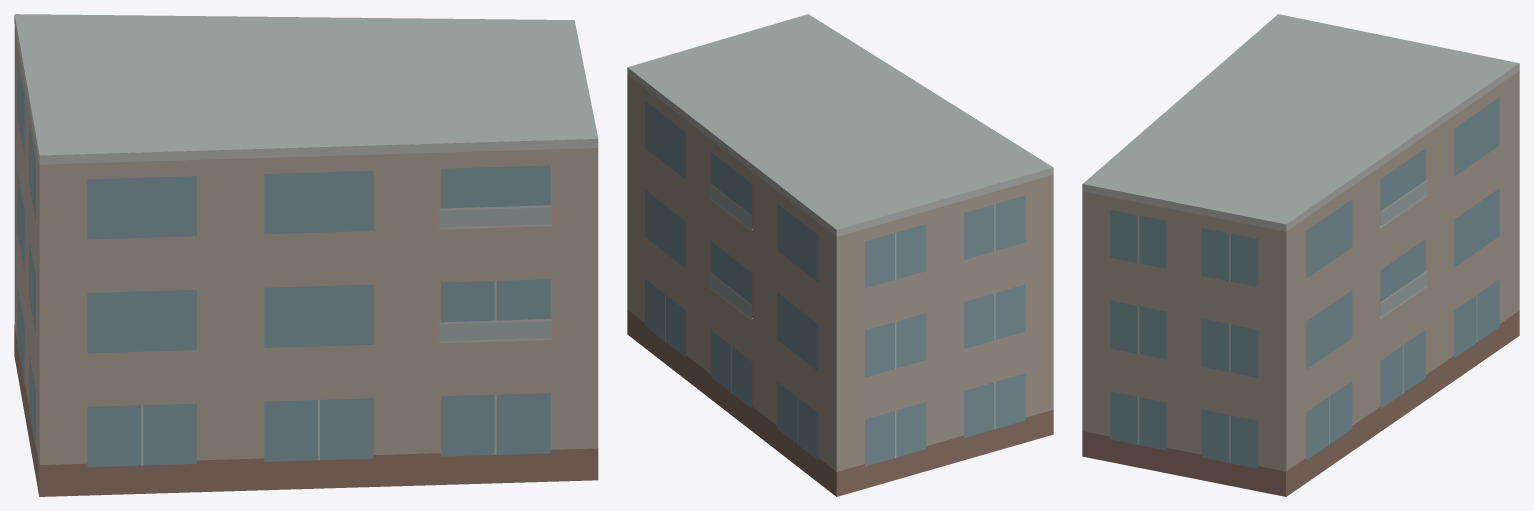
File: survey-upis-32783038.glb
3 views of the same model, side by side, from view 1: azimuth 30°, elevation 25°; view 2: azimuth 150°, elevation 25°; view 3: azimuth 270°, elevation 25° (orthographic). The views are drawn at different scales.
Visible parts, largest first — view 1: survey-upis-32783038.tmp; view 2: survey-upis-32783038.tmp; view 3: survey-upis-32783038.tmp.
Boxes of the visible parts, x1=… form: survey-upis-32783038.tmp: x1=14, y1=14, x2=598, y2=496; survey-upis-32783038.tmp: x1=627, y1=14, x2=1053, y2=496; survey-upis-32783038.tmp: x1=1082, y1=14, x2=1519, y2=496.
Size of the model in its own units: 15.16 by 9.15 by 13.31.
